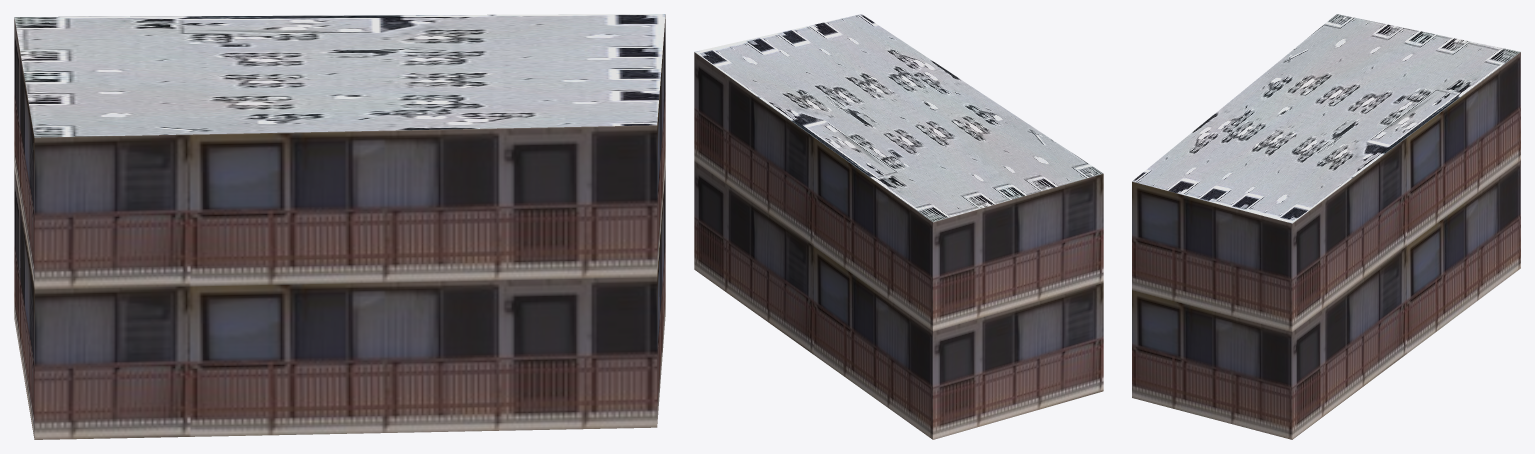
Rendered from ResTex__1883.fbx.
The picture shows the model from 3 angles, left to right: view 1: azimuth 30°, elevation 25°; view 2: azimuth 150°, elevation 25°; view 3: azimuth 270°, elevation 25°; orthographic projection. The views are drawn at different scales.
Visible parts, largest first — view 1: CityEngineMaterial_6_m, CityEngineMaterial_8_m; view 2: CityEngineMaterial_6_m, CityEngineMaterial_8_m; view 3: CityEngineMaterial_6_m, CityEngineMaterial_8_m.
Part boxes in pixels (<box>): CityEngineMaterial_6_m: <box>14,15,665,439</box>; CityEngineMaterial_8_m: <box>14,14,665,137</box>; CityEngineMaterial_6_m: <box>694,52,1103,439</box>; CityEngineMaterial_8_m: <box>694,14,1103,222</box>; CityEngineMaterial_6_m: <box>1132,52,1520,439</box>; CityEngineMaterial_8_m: <box>1132,14,1520,223</box>.
Size of the model in its own units: 12.46 by 6 by 9.77.
Materials: 2 (2 with a texture image).
